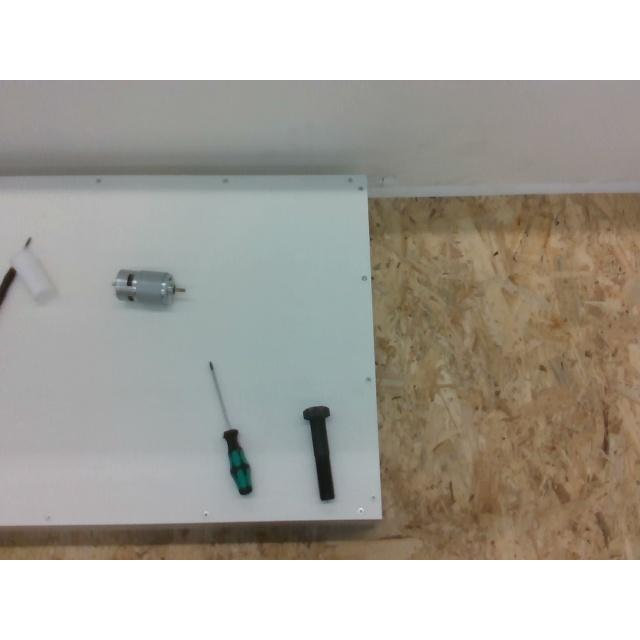M20_100: (302, 404, 334, 500)
Motor2: (114, 269, 184, 305)
Screwdriver: (208, 362, 252, 494)
Spacer: (10, 238, 58, 304)
